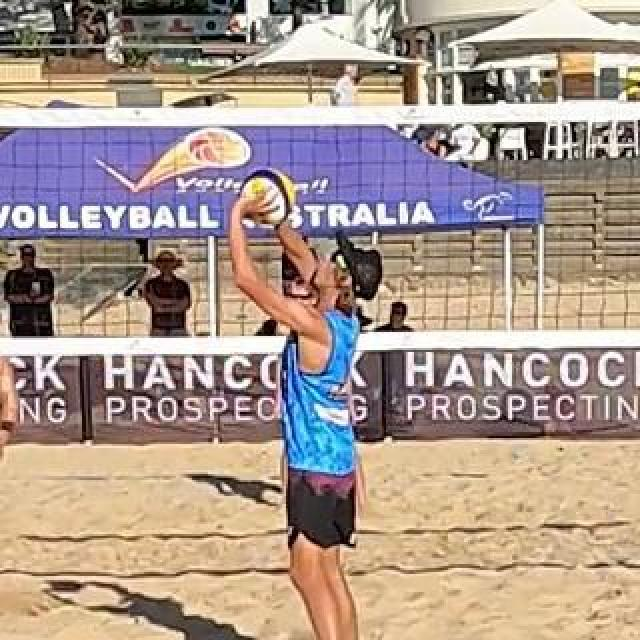volleyball: (241, 169, 297, 225)
